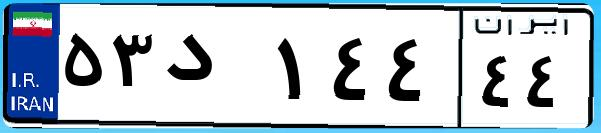1: (270, 28, 330, 110)
3: (110, 28, 158, 98)
4: (385, 28, 445, 110), (330, 28, 385, 110), (475, 38, 525, 113), (525, 38, 570, 115)
5: (57, 26, 110, 100)
د: (158, 20, 270, 120)
